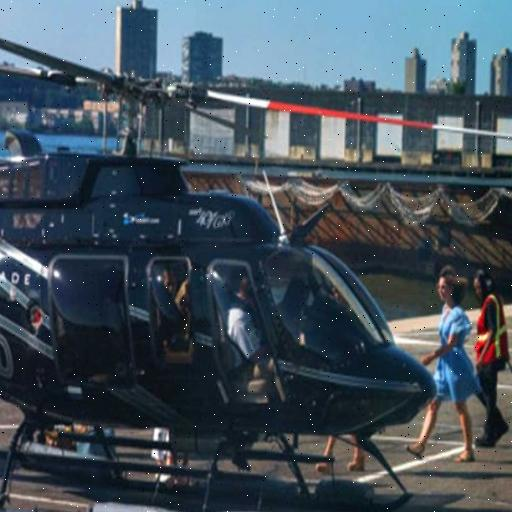helicopter: (1, 46, 442, 512)
